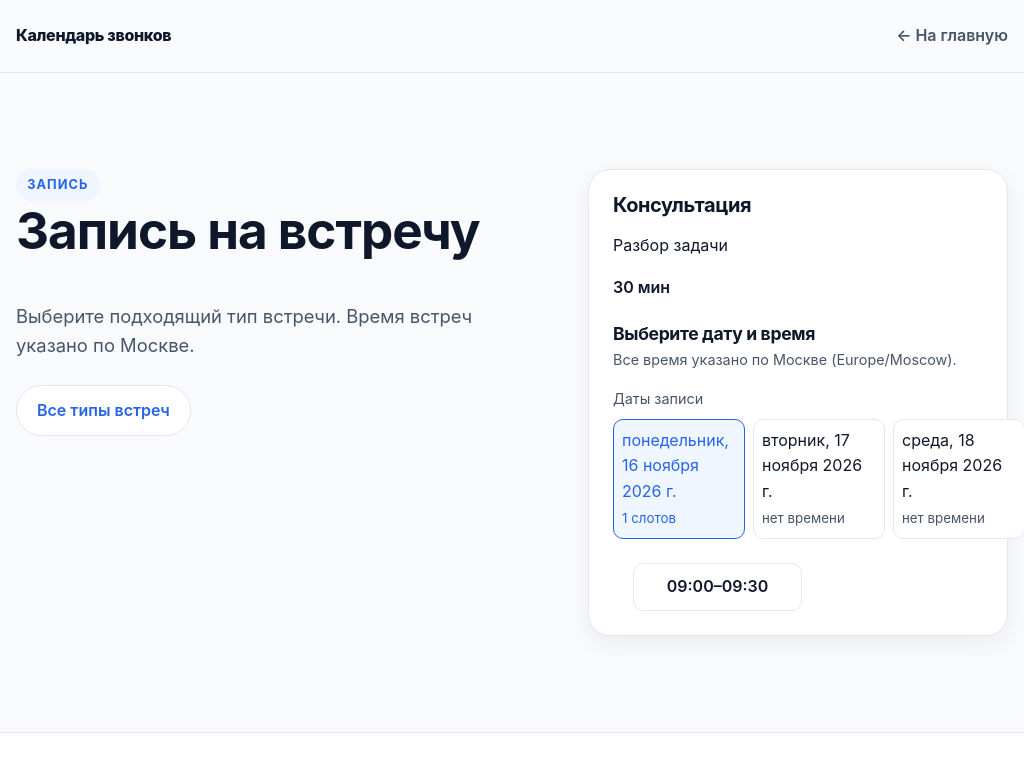
Test: BookingTypePage › creates a booking and shows the confirmation with Moscow time and no-email notice
Expected: the heading "Консультация" is shown, [613,193,751,217]
Click the button "09:00–09:30" at point(718, 587), box [633,563,802,611]
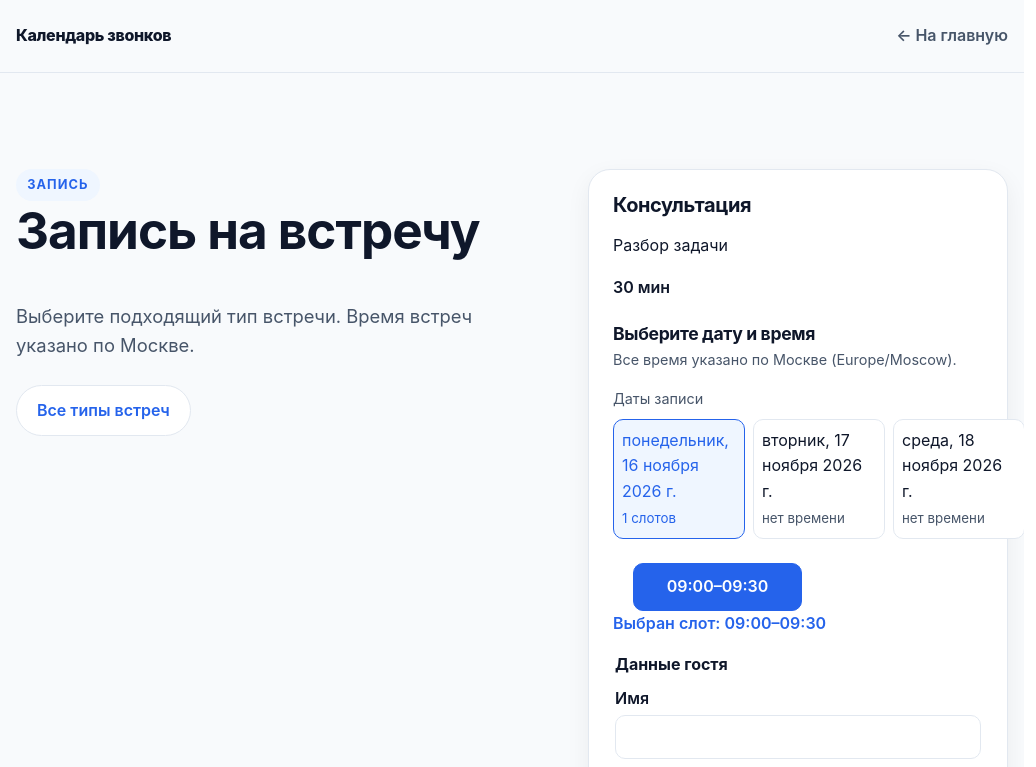
Type "Анна" into the field labelled "Имя" at point(798, 737), box [615,715,981,759]
(page scrolled)
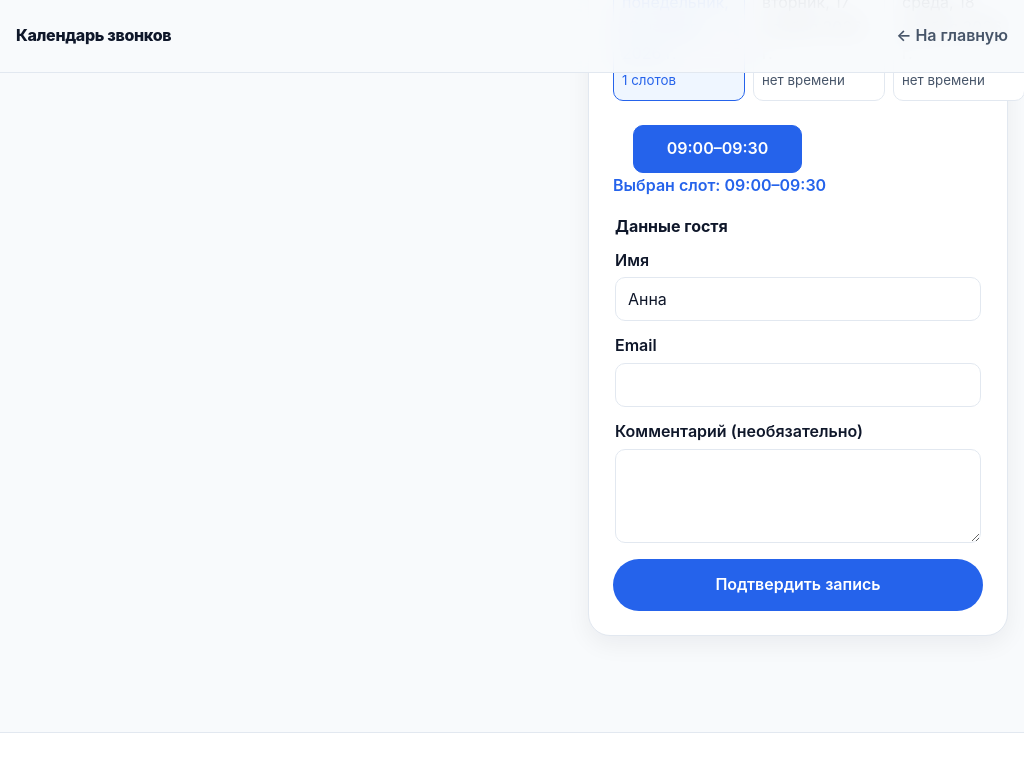
Type "anna@example.com" into the field labelled "Email" at point(798, 385), box [615,363,981,407]
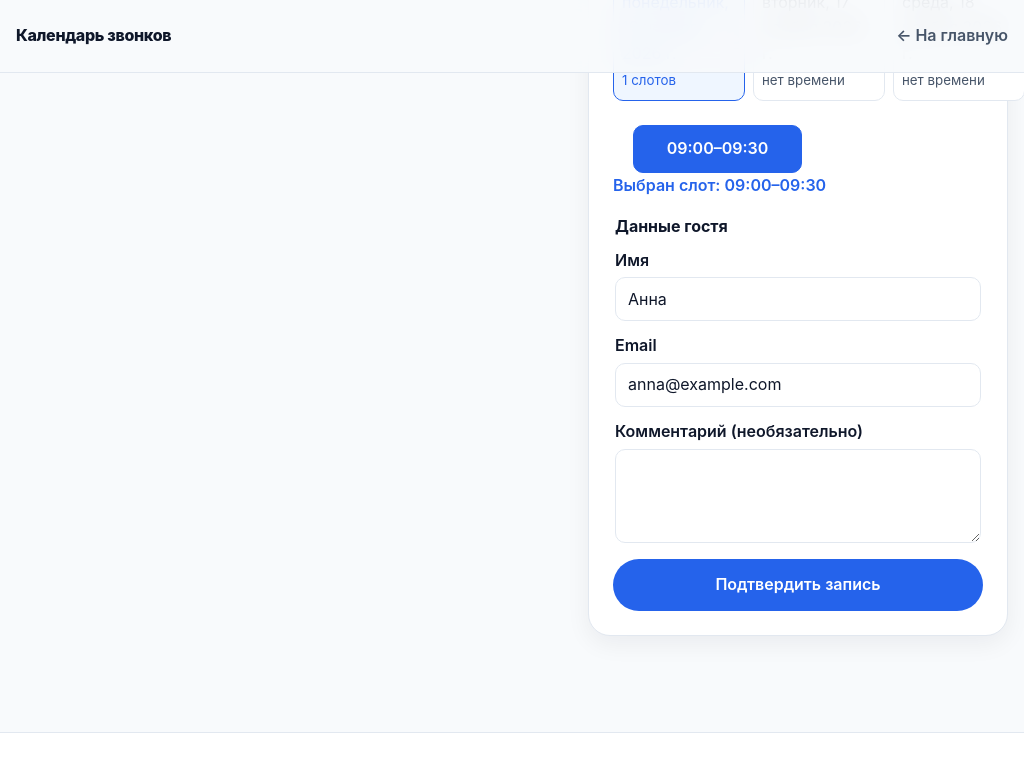
Type "Вопрос" into the text box labelled "Комментарий (необязательно)" at point(798, 496), box [615,449,981,543]
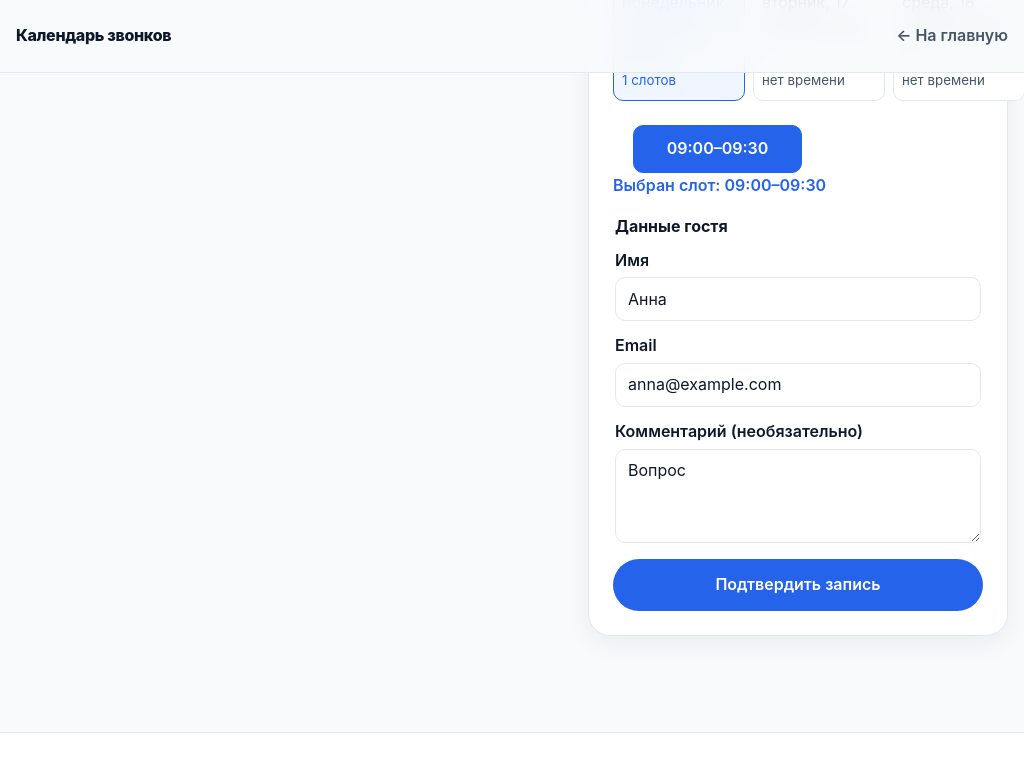
Click the button "Подтвердить запись" at point(798, 585), box [613,559,983,611]
(page scrolled)
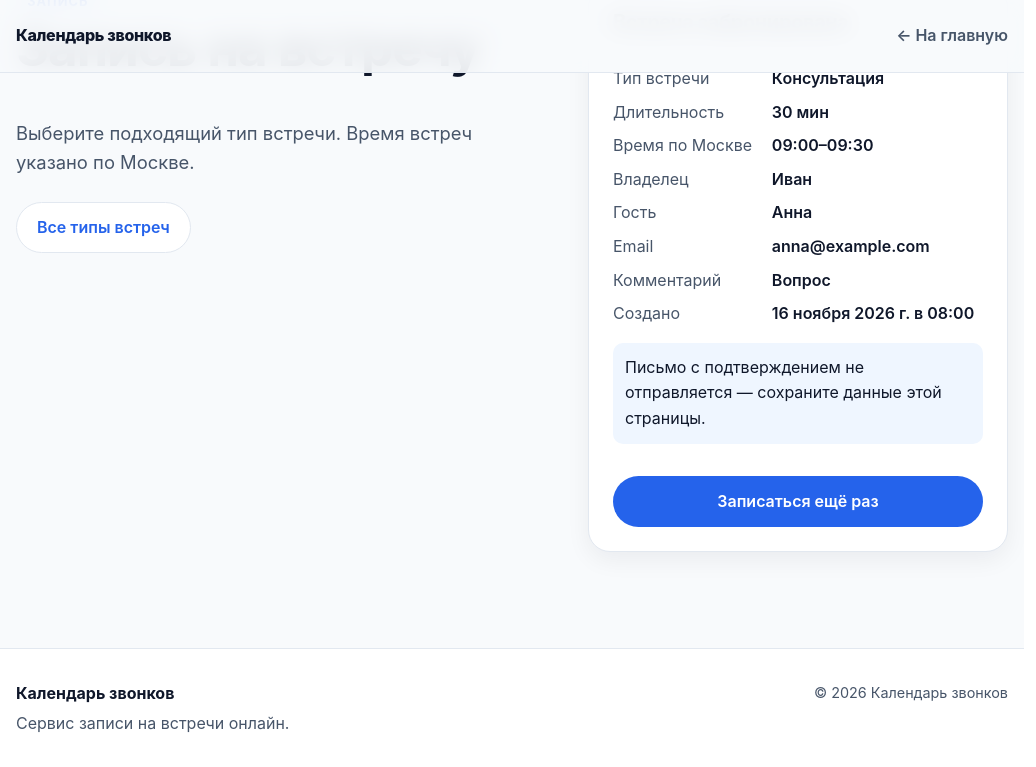
Expected: the text "Иван" is shown, [772,169,812,189]
Expected: the text "anna@example.com" is shown, [772,236,930,256]
Expected: the text "Письмо с подтверждением не отправляется" is shown, [625,357,942,428]
